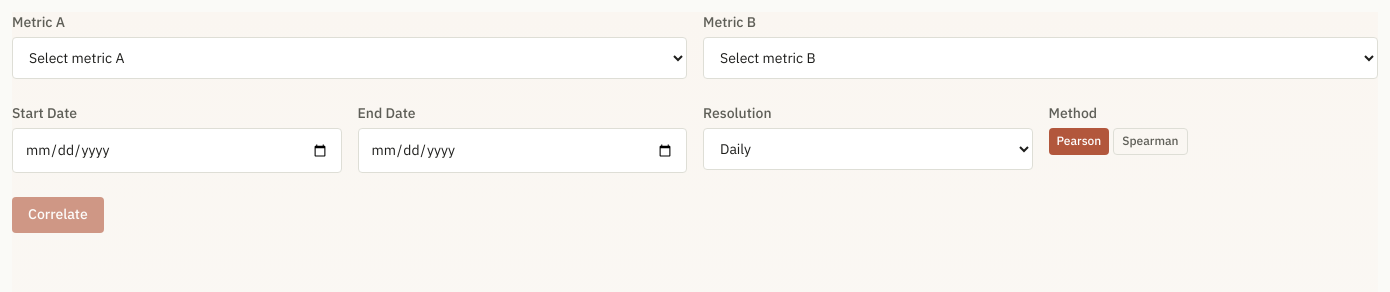
Test: CorrelationForm › shows error on failure
The image size is (1390, 292).
Select "Check-ins - Energy (score)" in the dropdown labelled "Metric A": coordinates (350, 58) left=12, top=37, right=687, bottom=79
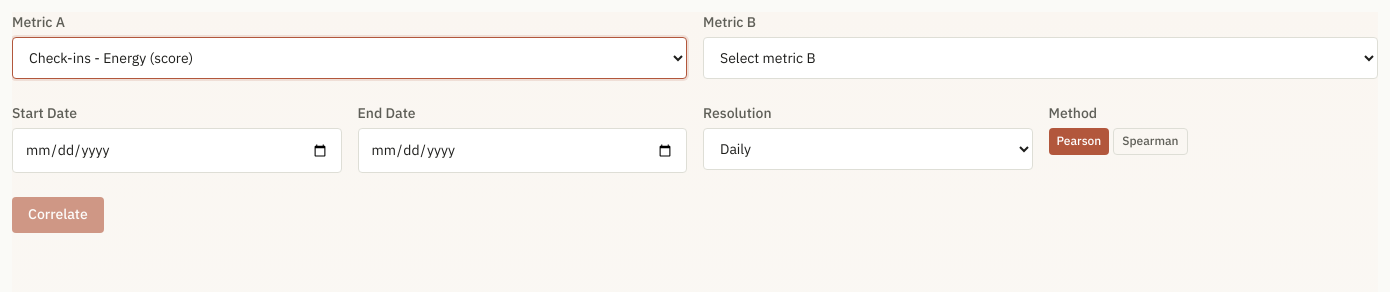
Select "Check-ins - Mood (score)" in the dropdown labelled "Metric B": coordinates (1040, 58) left=703, top=37, right=1378, bottom=79
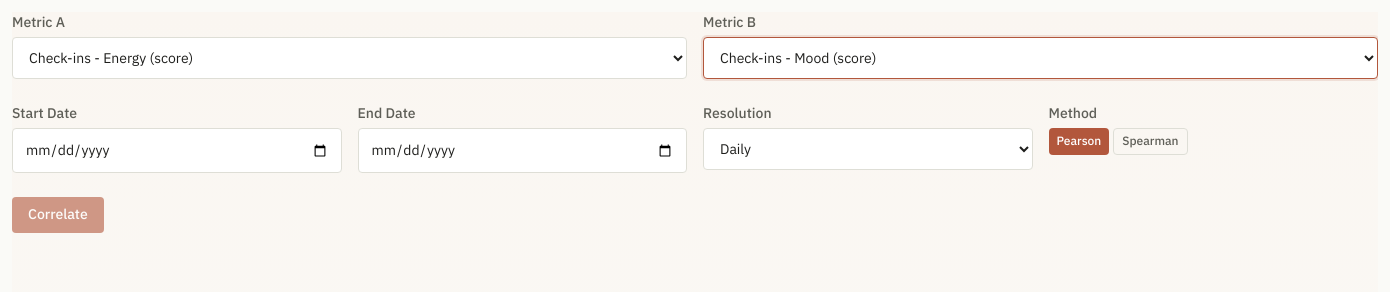
In the date field labelled "Start Date": coordinates (177, 150) left=12, top=128, right=342, bottom=173, type "2026-01-01"
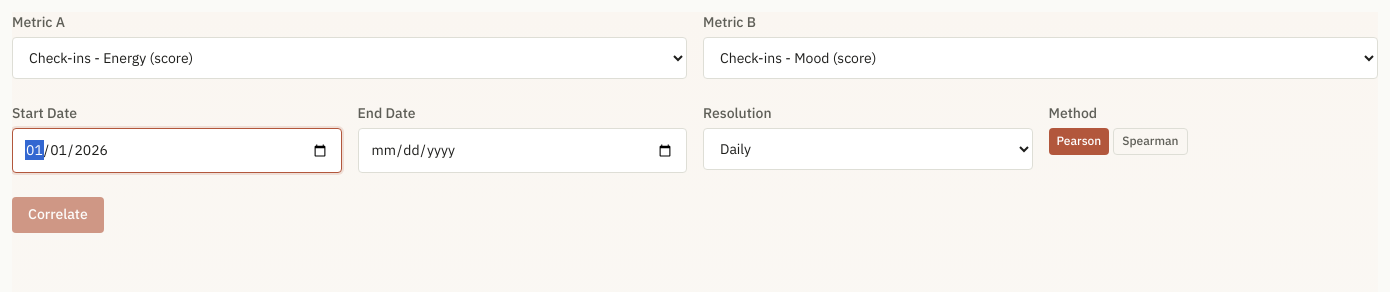
In the date field labelled "End Date": coordinates (522, 150) left=358, top=128, right=687, bottom=173, type "2026-03-01"
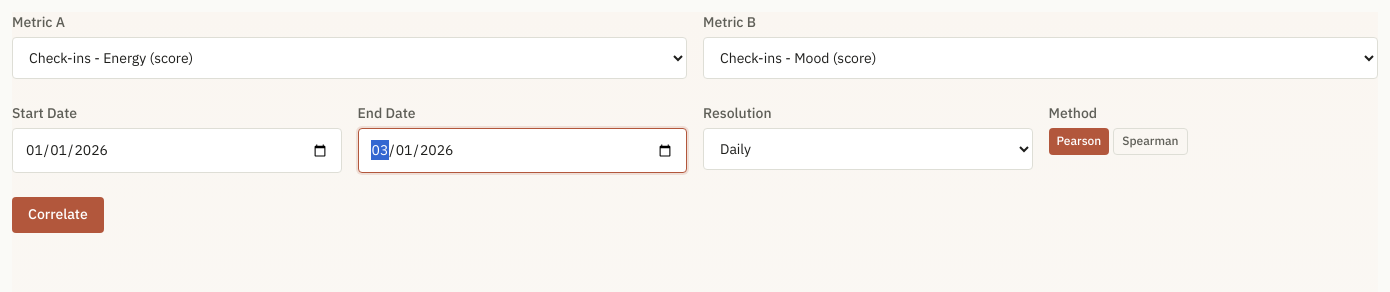
Click the button "Correlate": coordinates (58, 215) left=12, top=197, right=104, bottom=233
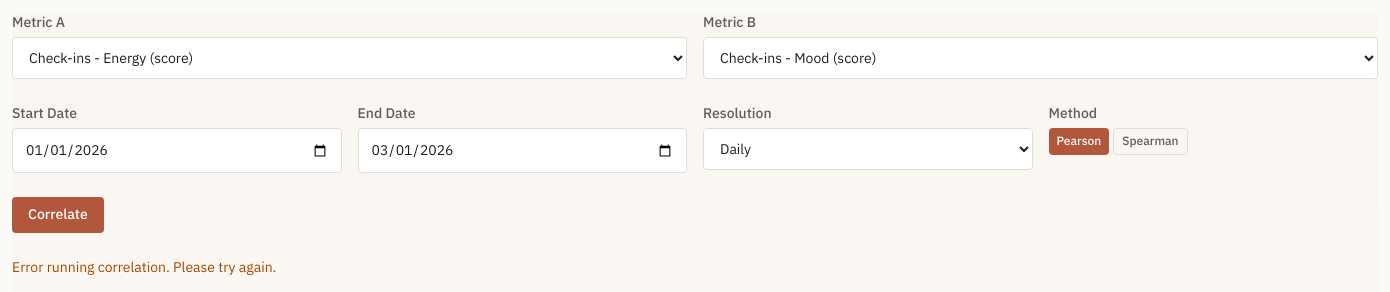
Expected: the text "Error running correlation. Please try again." is shown, left=12, top=258, right=276, bottom=276
